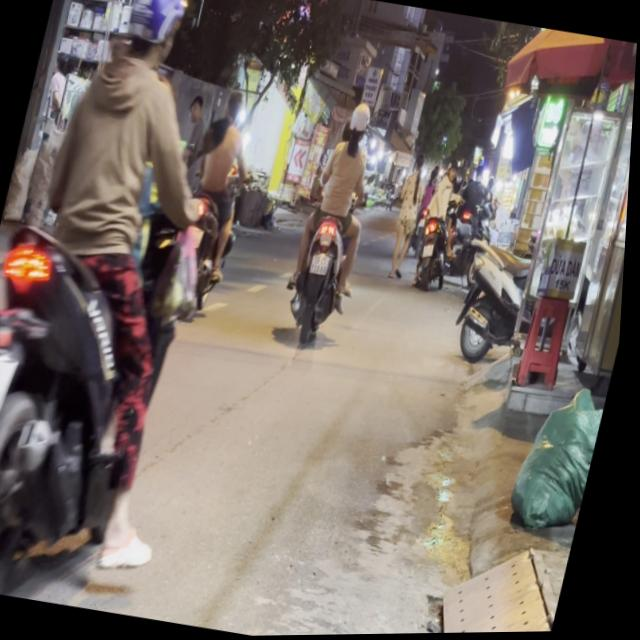helmet: (110, 0, 192, 71), (343, 99, 373, 142)
licenseplate: (0, 0, 269, 605), (275, 94, 394, 347), (160, 77, 271, 319)
motorcyclist: (221, 84, 247, 123)
nohelmet: (0, 351, 19, 416), (311, 251, 333, 274)
